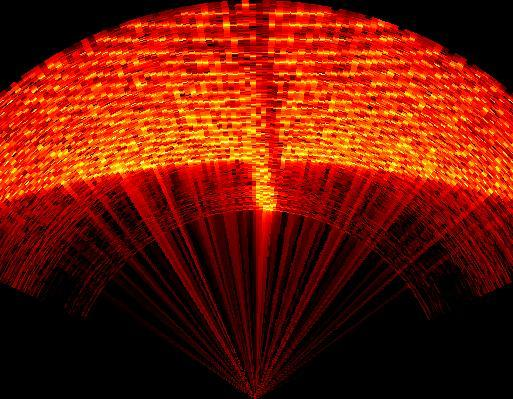pipe: (232, 3, 283, 165)
